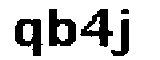4: (79, 6, 115, 48)
b: (45, 6, 78, 51)
j: (113, 4, 134, 60)
q: (13, 16, 45, 60)
